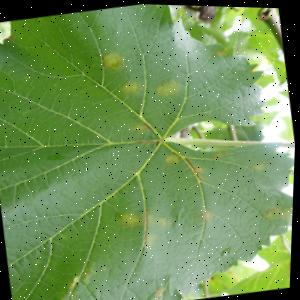Folha: (0, 0, 300, 300)
Fungo: (135, 205, 179, 248), (261, 200, 294, 223), (154, 77, 182, 98), (117, 208, 146, 228), (100, 49, 127, 70), (118, 78, 143, 96), (132, 120, 152, 135), (164, 149, 183, 164), (250, 158, 269, 169)
